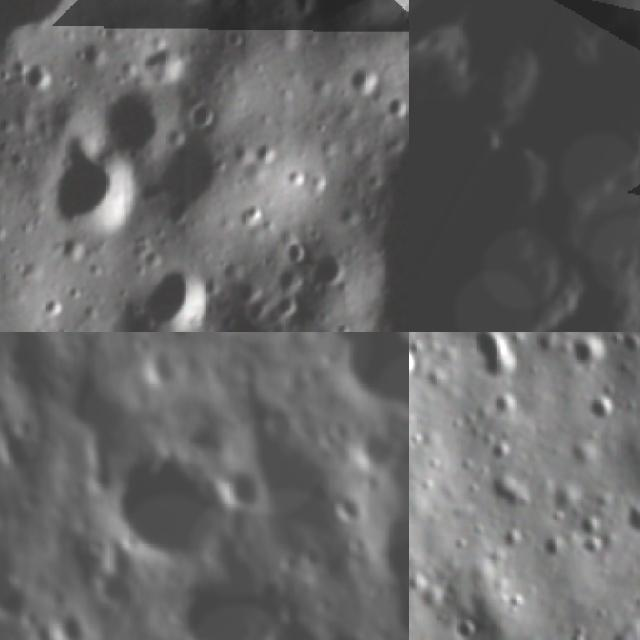crater: (99, 436, 237, 556), (45, 134, 154, 248), (169, 553, 281, 640), (150, 124, 249, 222), (90, 73, 186, 164), (327, 332, 409, 424), (146, 269, 217, 332), (92, 548, 146, 627), (126, 333, 182, 405), (464, 332, 520, 395), (303, 247, 357, 295), (566, 332, 615, 377), (22, 43, 59, 96), (220, 463, 256, 512), (260, 615, 320, 640), (578, 395, 621, 427), (342, 59, 380, 95), (331, 492, 368, 526), (488, 393, 522, 424), (535, 536, 572, 564), (50, 612, 86, 640), (314, 623, 368, 640), (582, 538, 616, 559), (580, 512, 602, 544), (409, 342, 425, 385), (626, 500, 640, 541), (0, 382, 9, 427)
